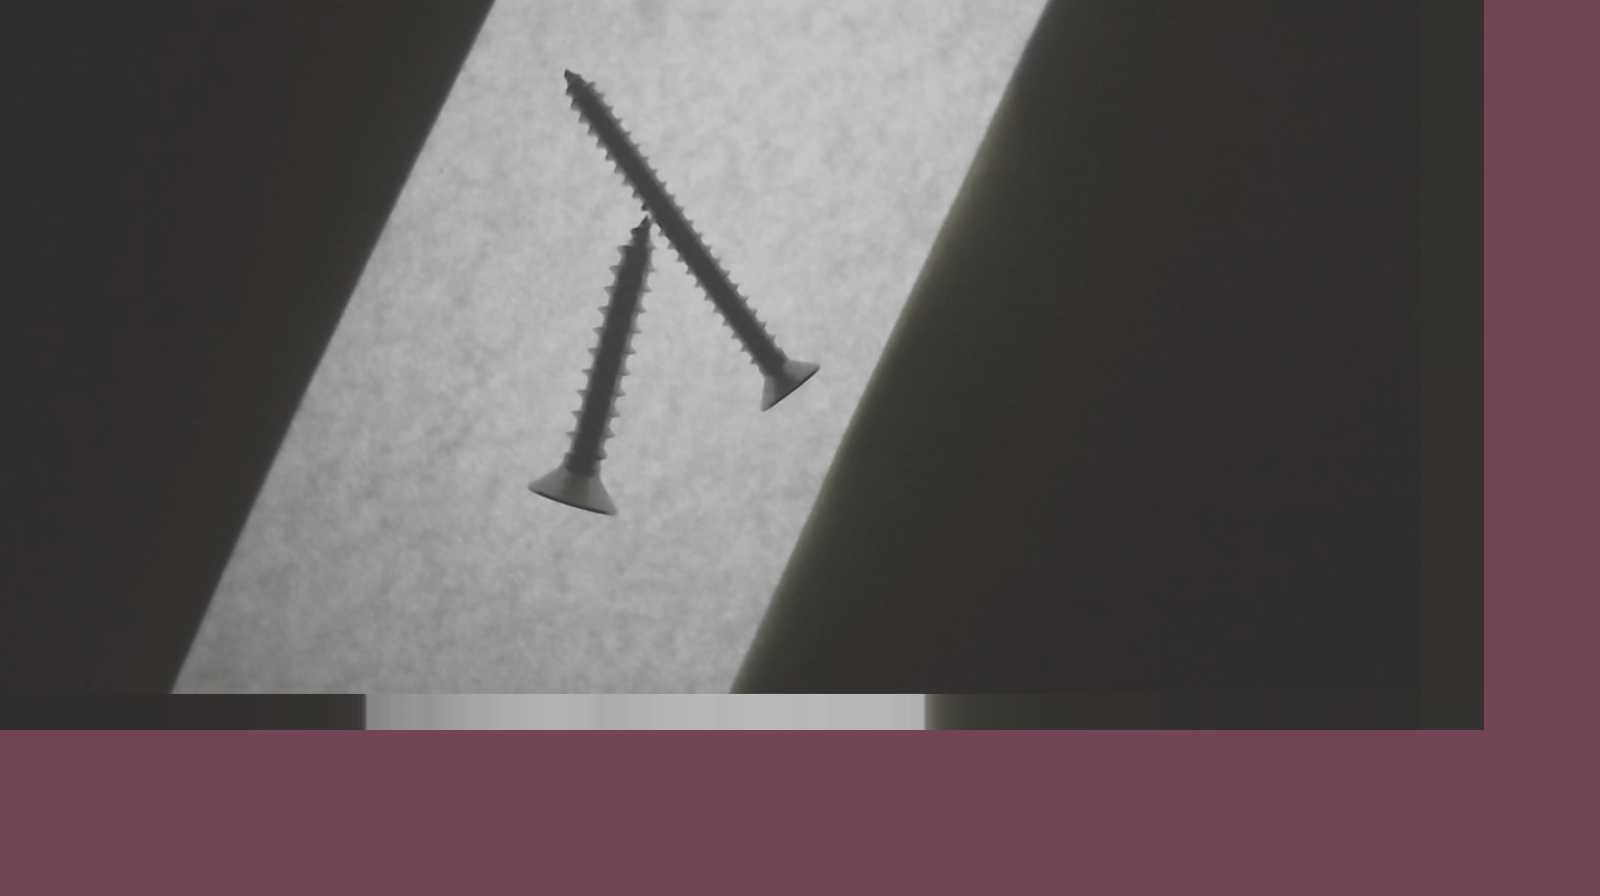S001: (525, 215, 657, 519)
S002: (555, 64, 822, 413)
